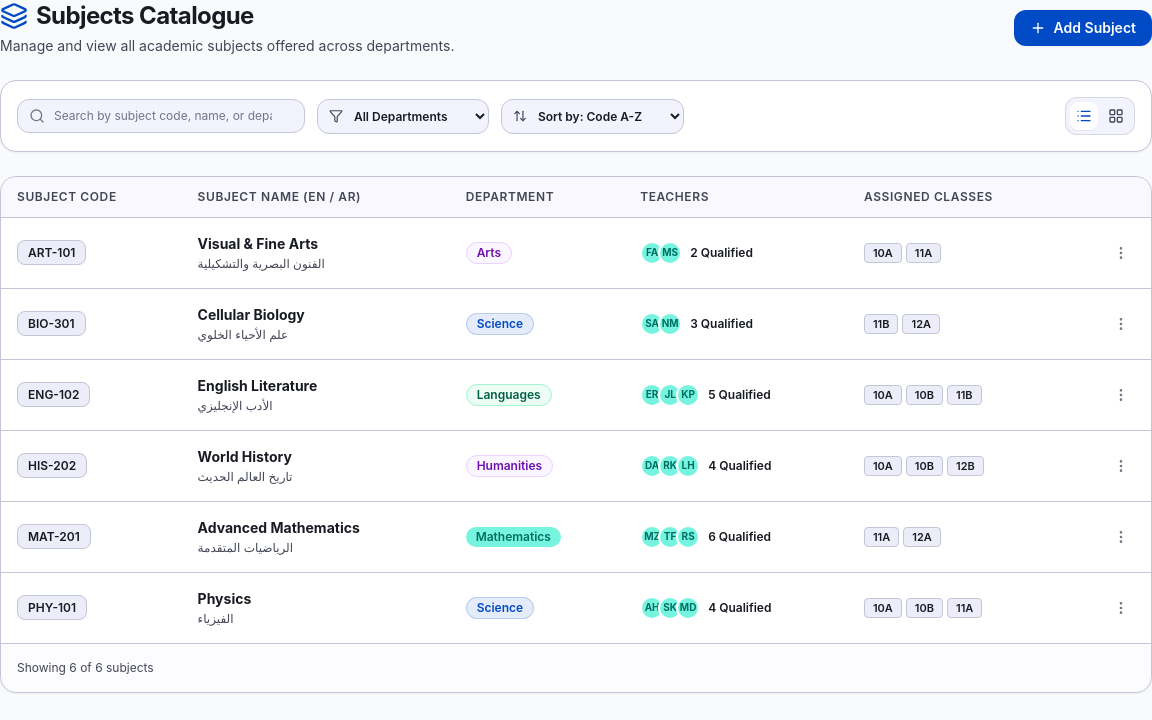
Test case: SubjectsCataloguePage (Subjects Catalogue Stitch Clone) › opens Add Subject drawer and submits a new subject
Click the button "Add Subject" at [1083, 28], box x1=1014 y1=10 x2=1151 y2=46
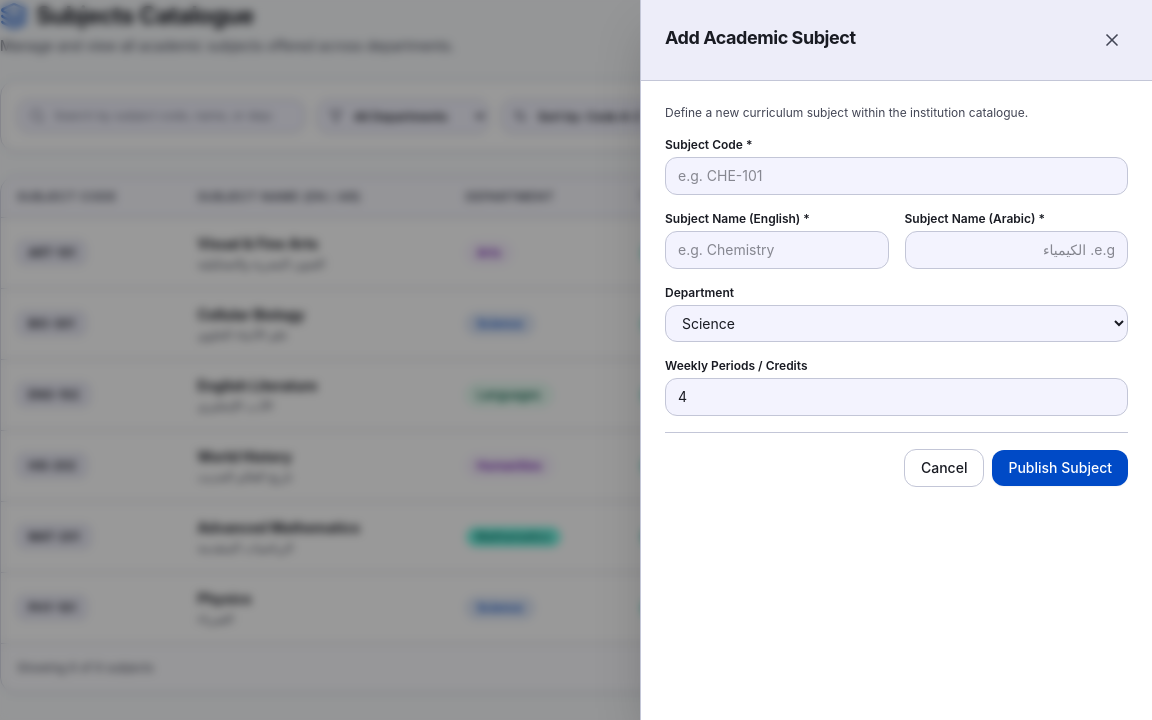
Result: the heading "Add Academic Subject" is shown at x1=665 y1=24 x2=856 y2=52
Type "CHE-101" into the field with placeholder "e.g. CHE-101" at [896, 176], box x1=665 y1=157 x2=1128 y2=195
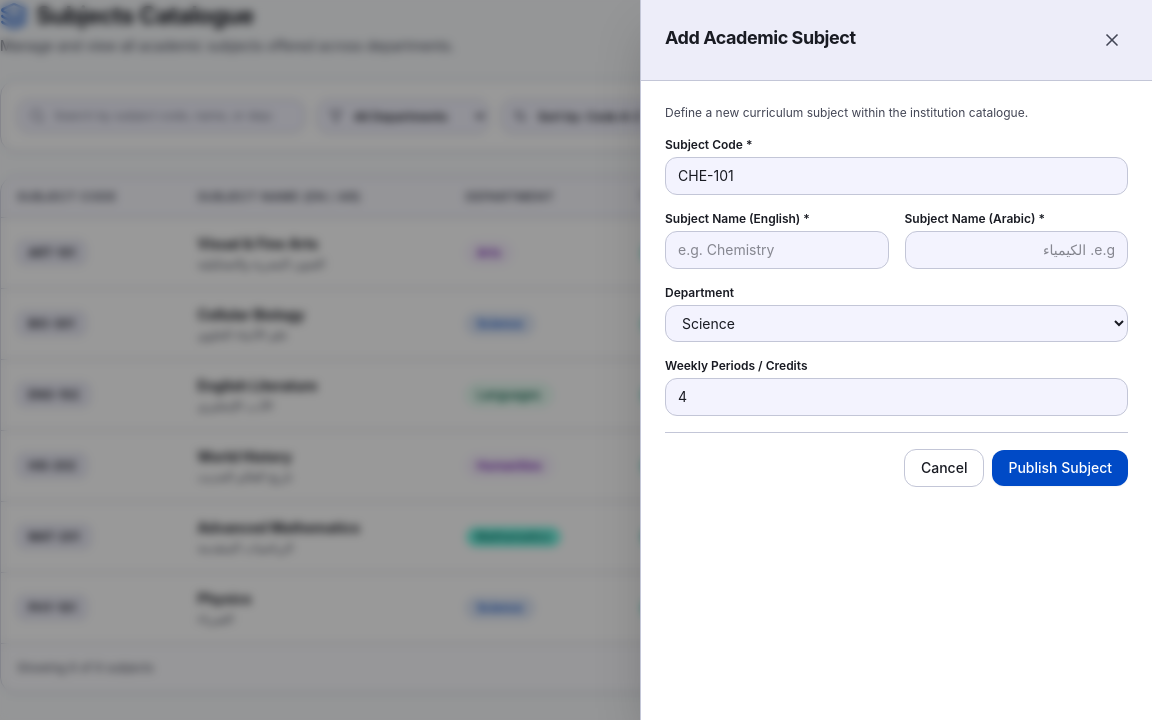
Type "Chemistry Core" into the field with placeholder "e.g. Chemistry" at [777, 250], box x1=665 y1=231 x2=888 y2=269
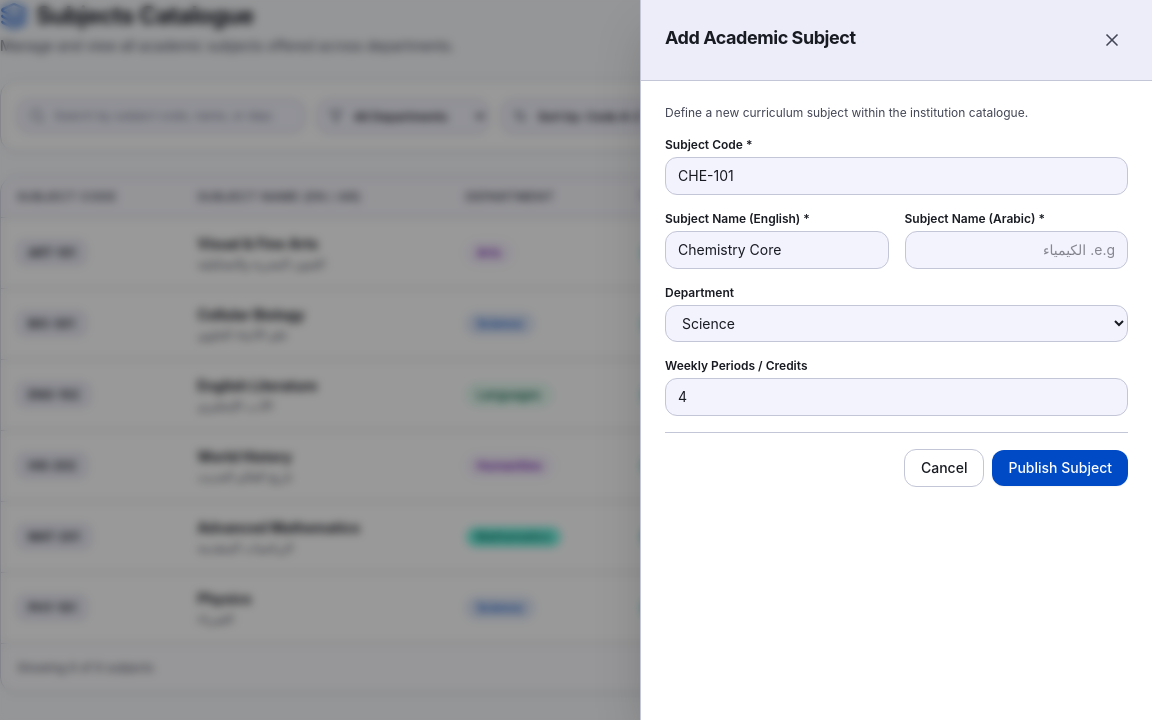
Type "الكيمياء العامة" into the field with placeholder "e.g. الكيمياء" at [1016, 250], box x1=904 y1=231 x2=1128 y2=269
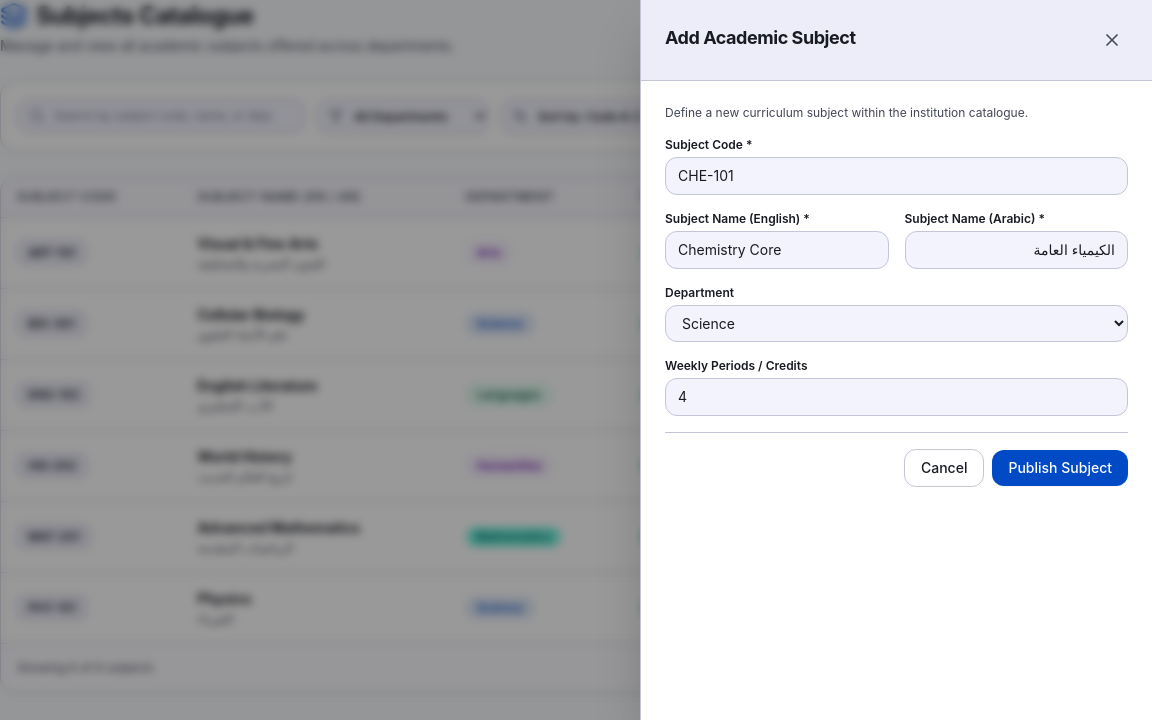
Click the button "Publish Subject" at [1060, 468], box x1=992 y1=450 x2=1128 y2=486
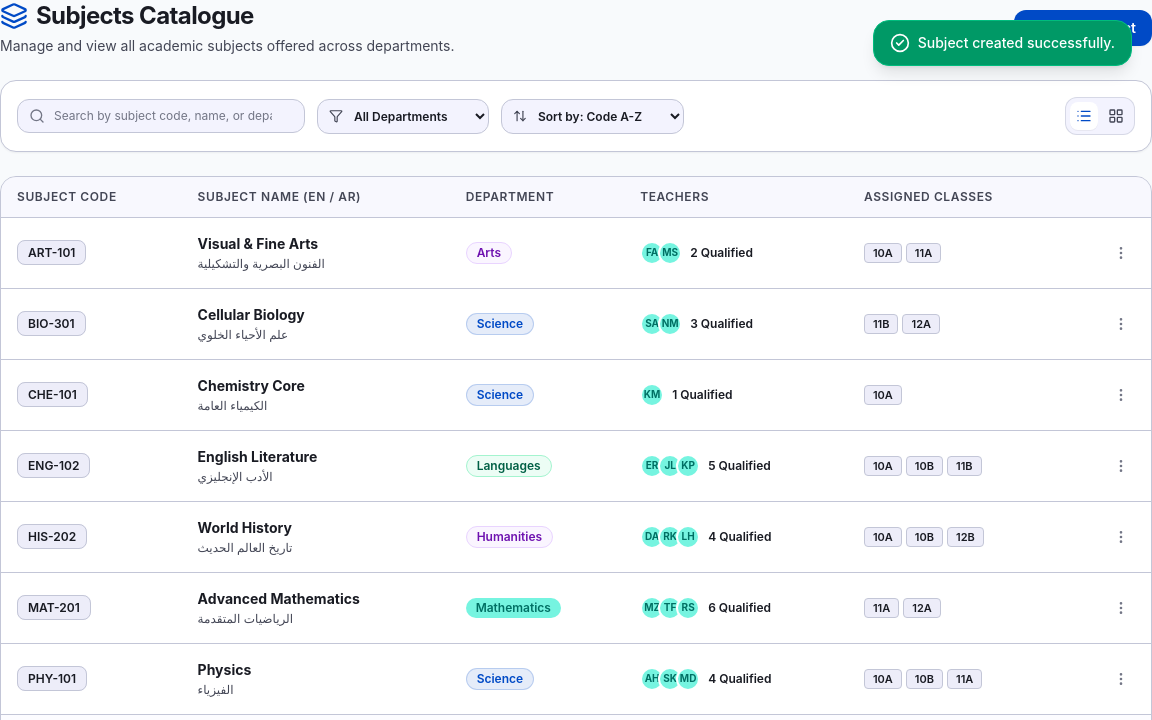
Result: the text "CHE-101" is shown at x1=17 y1=382 x2=88 y2=407
Result: the text "Chemistry Core" is shown at x1=198 y1=377 x2=305 y2=394
